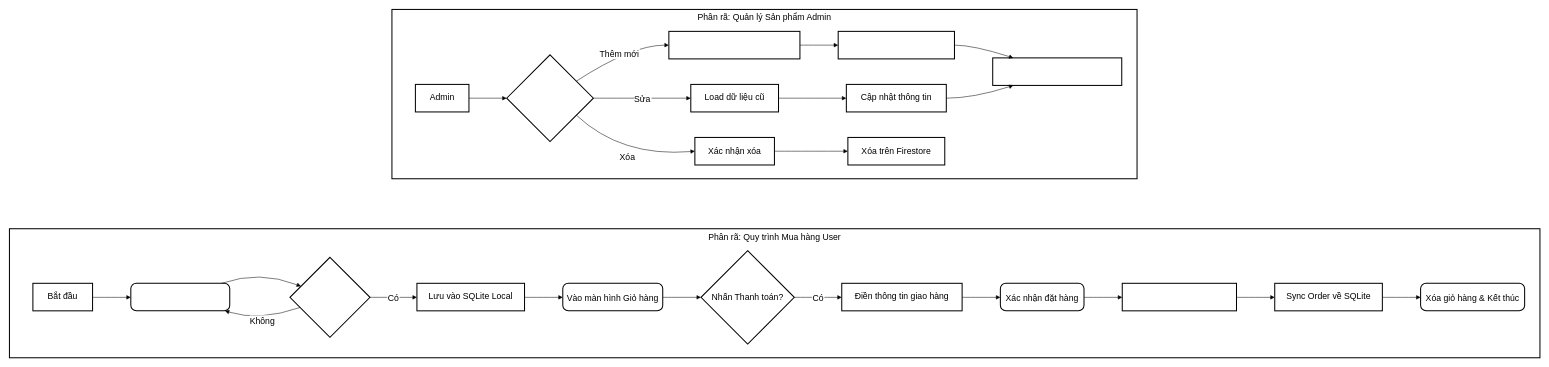
The diagram is 1549 pixels wide and 367 high, and some of its shapes have lost their labels. Here are the shapes that lost their labels. From the top down, the centre of each, then its label:
(x=734, y=45): Nhập thông tin & Chọn ảnh
(x=896, y=45): Upload ảnh lên Storage
(x=1057, y=71): Lưu thông tin lên Firestore
(x=550, y=98): Chọn hành động
(x=180, y=297): Xem chi tiết sản phẩm
(x=329, y=297): Thêm vào giỏ?
(x=1179, y=297): Gửi Order lên Firebase
